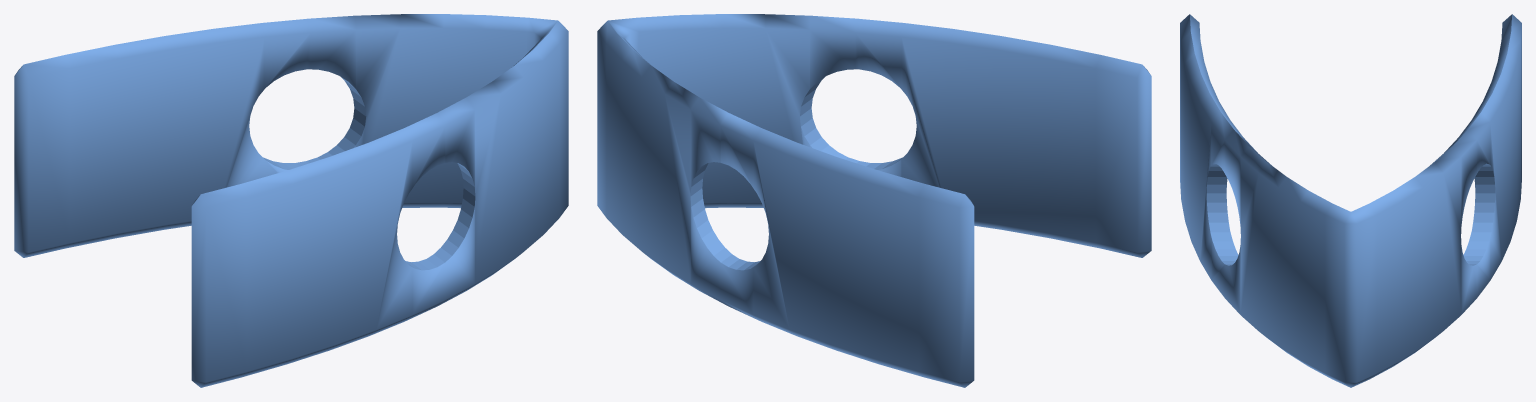
The model's file is ppocket.gltf.
The picture shows the model from 3 angles, left to right: view 1: azimuth 30°, elevation 25°; view 2: azimuth 150°, elevation 25°; view 3: azimuth 270°, elevation 25°; orthographic projection. The views are drawn at different scales.
Parts seen in each view (by area): view 1: BezierCurve.001; view 2: BezierCurve.001; view 3: BezierCurve.001.
Boxes of the visible parts, x1=… form: BezierCurve.001: x1=14, y1=14, x2=568, y2=387; BezierCurve.001: x1=597, y1=14, x2=1151, y2=387; BezierCurve.001: x1=1180, y1=14, x2=1521, y2=387.
Size of the model in its own units: 0.0155 by 0.0062 by 0.0109.
